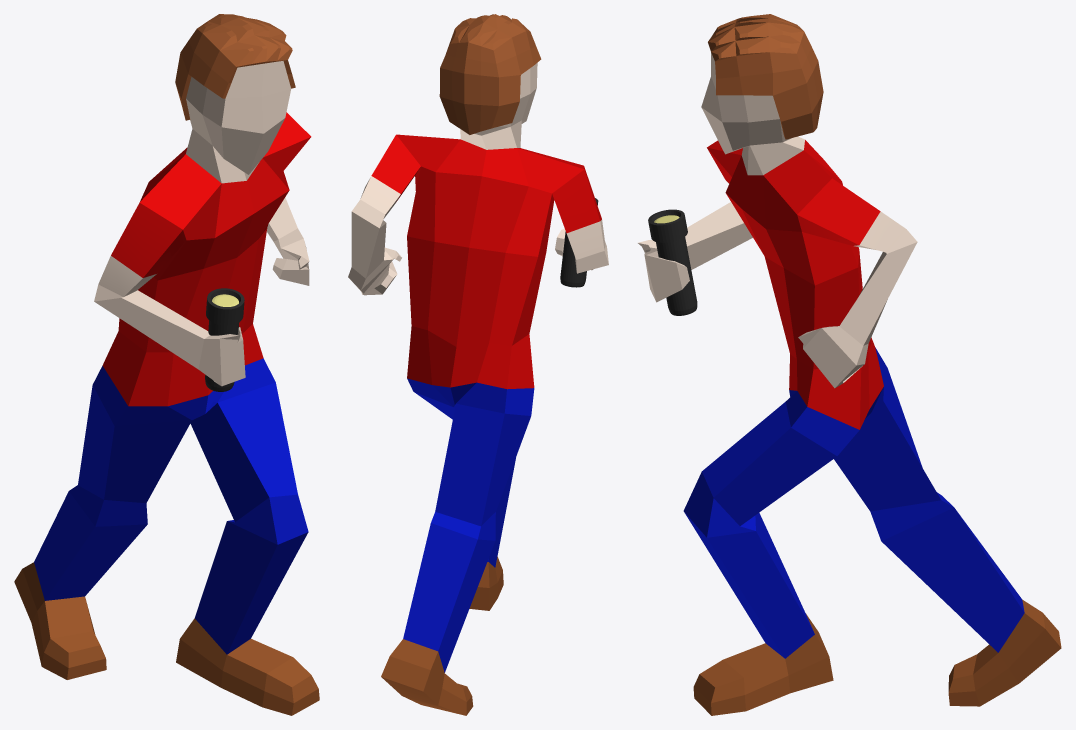
Rendered from Human_running_3.fbx.
3 views of the same model, side by side, from view 1: azimuth 30°, elevation 25°; view 2: azimuth 150°, elevation 25°; view 3: azimuth 270°, elevation 25° (orthographic). The views are drawn at different scales.
Visible parts, largest first — view 1: Person.004, Flashlight; view 2: Person.004, Flashlight; view 3: Person.004, Flashlight.
Part boxes in pixels (bbox=[...]): Person.004: bbox=[14, 14, 319, 715]; Flashlight: bbox=[205, 288, 244, 391]; Person.004: bbox=[348, 14, 608, 715]; Flashlight: bbox=[560, 198, 598, 287]; Person.004: bbox=[638, 14, 1061, 715]; Flashlight: bbox=[648, 209, 697, 315].
Bounding box in the file's own units: 0.5884 × 1.55 × 0.8455.
